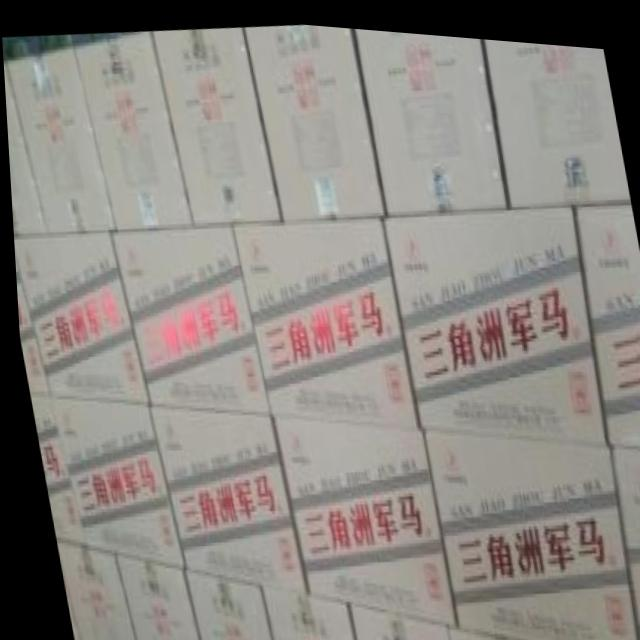box: (377, 194, 602, 435), (418, 425, 632, 640), (231, 214, 416, 425), (269, 409, 450, 619), (143, 399, 301, 593), (109, 222, 267, 410), (352, 23, 509, 206), (245, 21, 384, 216), (152, 27, 279, 221), (72, 29, 190, 229), (483, 31, 626, 195), (11, 233, 147, 402), (49, 396, 178, 562), (4, 48, 113, 236), (572, 190, 640, 437), (25, 389, 77, 543), (50, 539, 129, 640), (603, 438, 640, 640), (3, 64, 45, 237), (110, 557, 192, 640), (178, 568, 265, 640), (254, 586, 349, 640), (12, 251, 47, 395), (342, 602, 442, 640), (439, 621, 542, 640)
